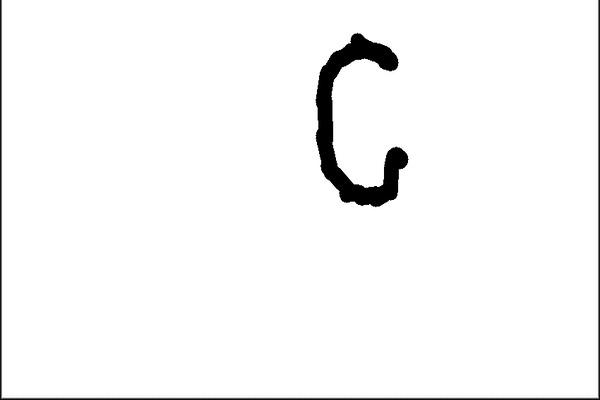C: (308, 27, 413, 211)
